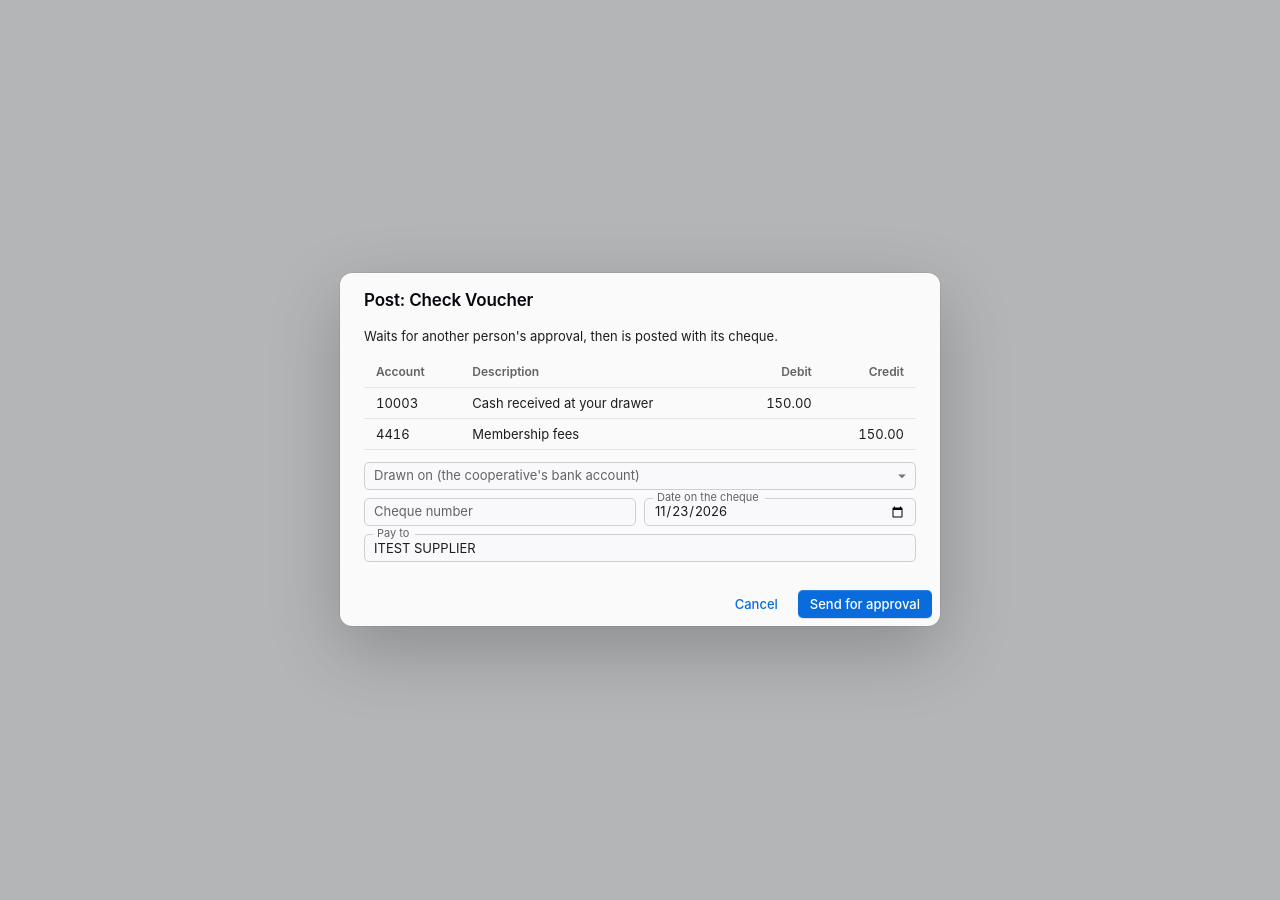
Scenario: Posting a front office draft › sends a Check Voucher for approval with the cooperative's cheque
This screenshot has width=1280, height=900.
Expected: the button "Send for approval" is shown, left=798, top=590, right=932, bottom=618
Type "12ab34" into the field labelled "Cheque number" at (500, 512), box left=364, top=498, right=636, bottom=526
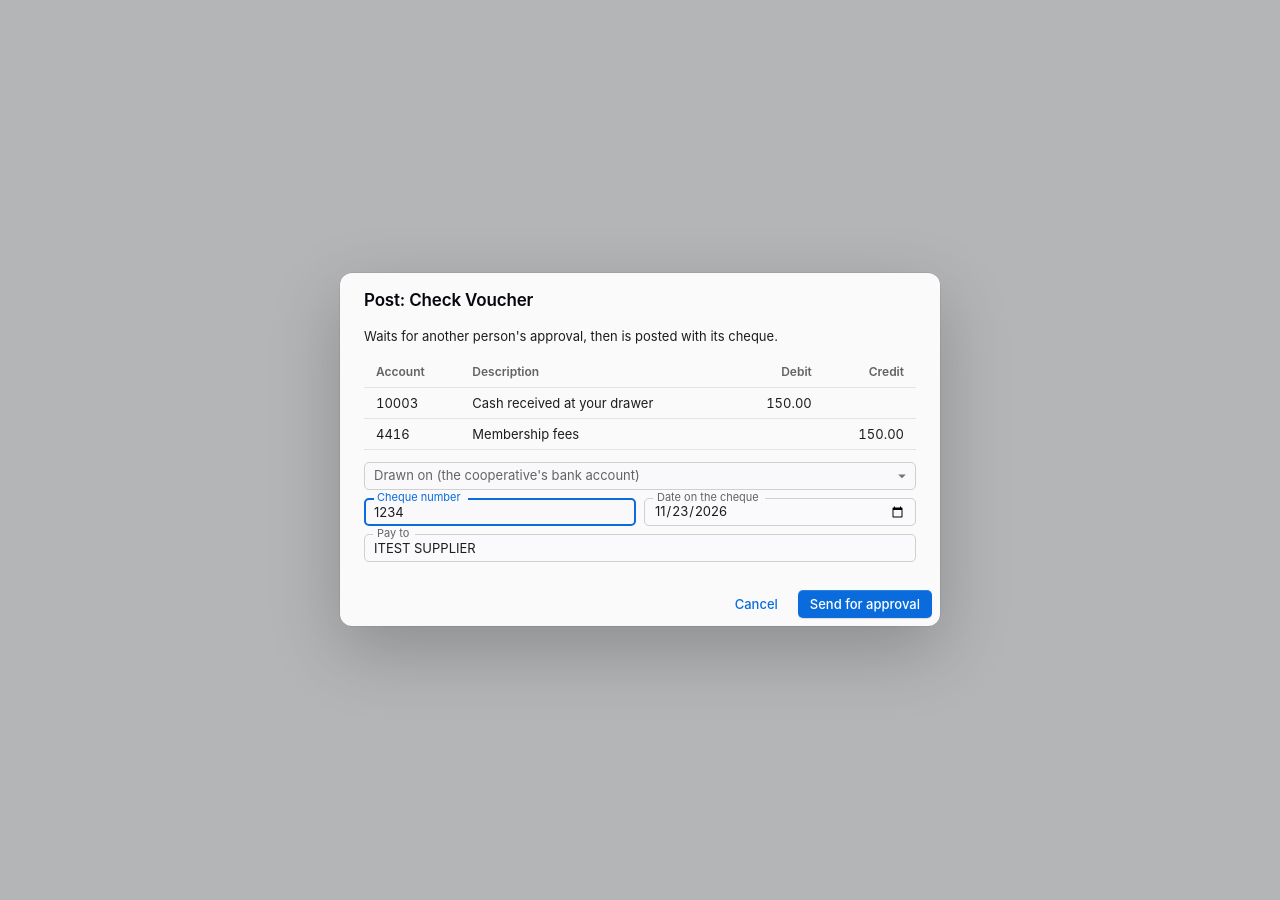
Expected: the field labelled "Pay to" holds "ITEST SUPPLIER", left=364, top=534, right=916, bottom=562
Result: the field labelled "Cheque number" holds "1234" at left=364, top=498, right=636, bottom=526
